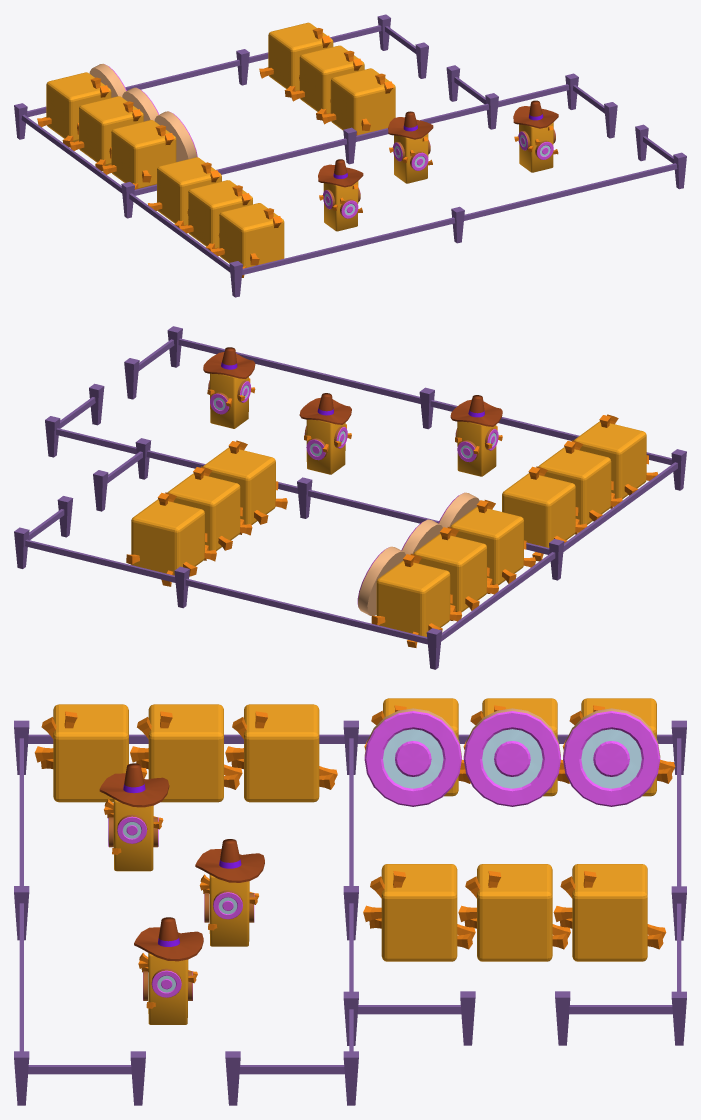
The model's file is Archery.fbx.
The picture shows the model from 3 angles, top to bottom: view 1: azimuth 30°, elevation 25°; view 2: azimuth 150°, elevation 25°; view 3: azimuth 270°, elevation 25°; orthographic projection. The views are drawn at different scales.
Visible parts, largest first — view 1: Archery_LOD0; view 2: Archery_LOD0; view 3: Archery_LOD0.
Boxes of the visible parts, <box> form: Archery_LOD0: <box>14,14,686,297</box>; Archery_LOD0: <box>14,326,686,669</box>; Archery_LOD0: <box>14,698,686,1105</box>.
Size of what is drawn, in the model's own units: 41.27 by 6.42 by 34.83.
